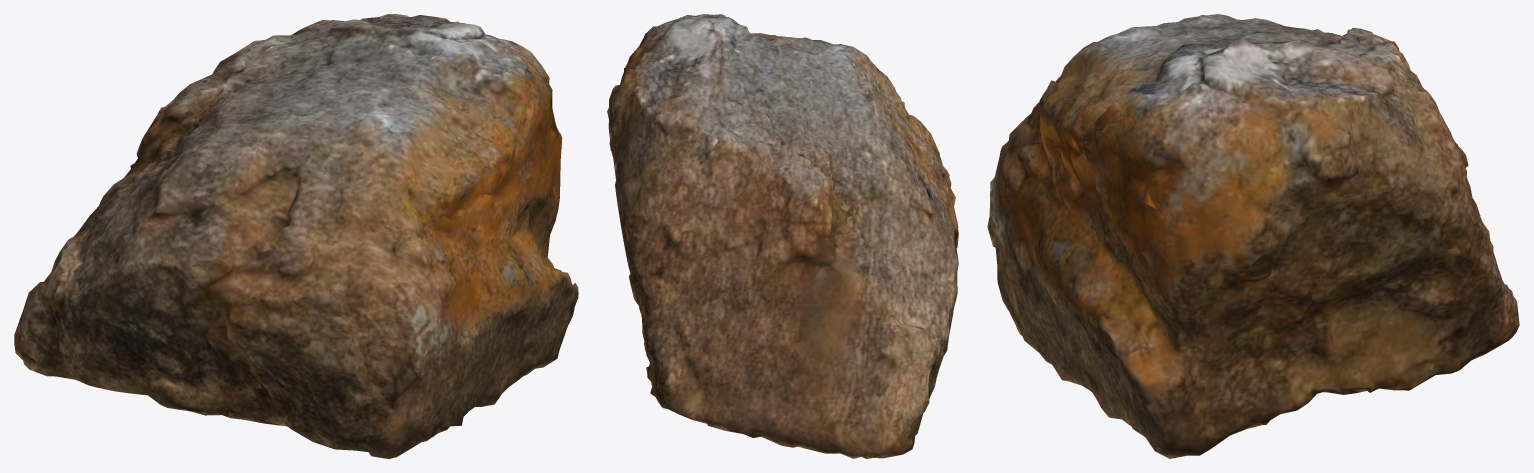
File: namaqualand_boulder_04.glb
3 renders of one model, left to right at view 1: azimuth 30°, elevation 25°; view 2: azimuth 150°, elevation 25°; view 3: azimuth 270°, elevation 25°, orthographic. The views are drawn at different scales.
Visible parts, largest first — view 1: boulder_04; view 2: boulder_04; view 3: boulder_04.
Part boxes in pixels (x1,y1,x2,y2): boulder_04: (14,14,578,458); boulder_04: (607,14,958,458); boulder_04: (987,14,1519,458).
Size of the model in its own units: 2.52 by 1.9 by 2.49.
Materials: 1 (1 with a texture image).
